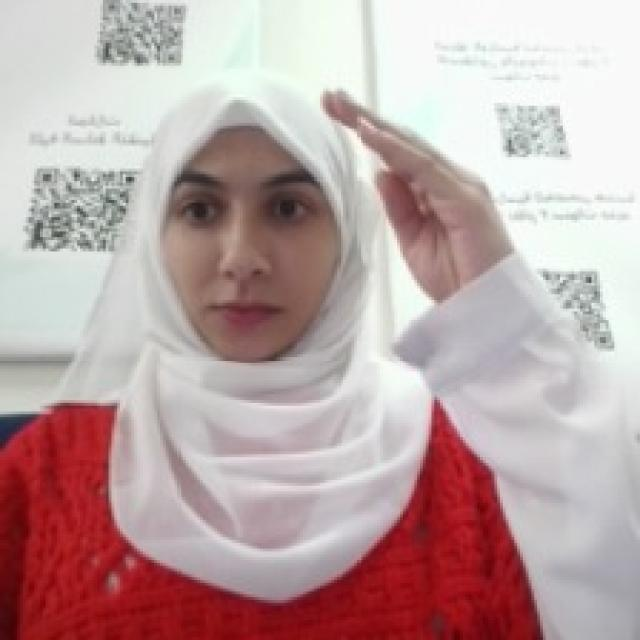Thanks: (312, 83, 512, 303)
